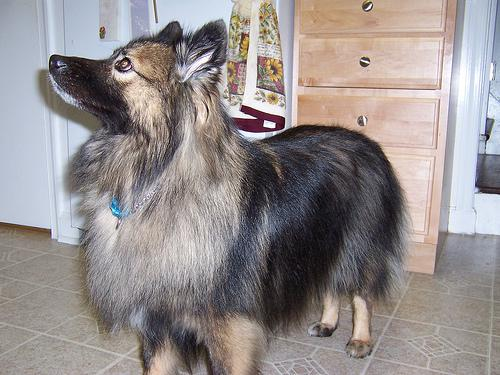dog-keeshond: (47, 18, 226, 117)
